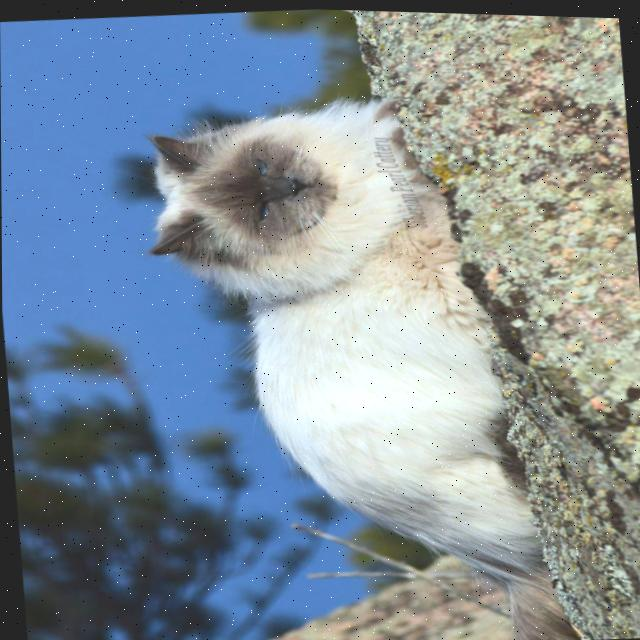Neva Masquerade: (130, 78, 605, 640)
